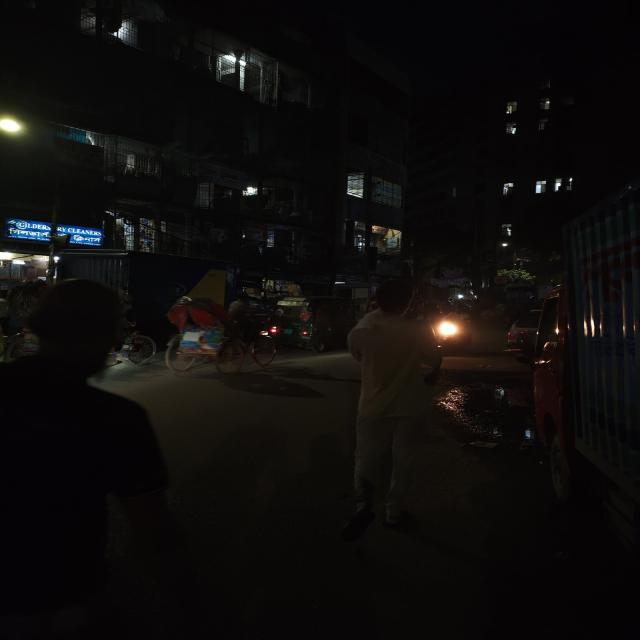cng: (280, 295, 356, 354)
pedestrian: (1, 278, 189, 640), (338, 282, 445, 536)
rickshaw: (157, 292, 280, 376)
truck: (531, 203, 639, 548), (70, 244, 262, 313)
